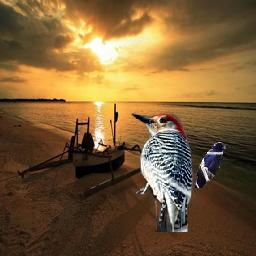Crow: (194, 142, 227, 189)
Woodpecker: (127, 106, 195, 232)
